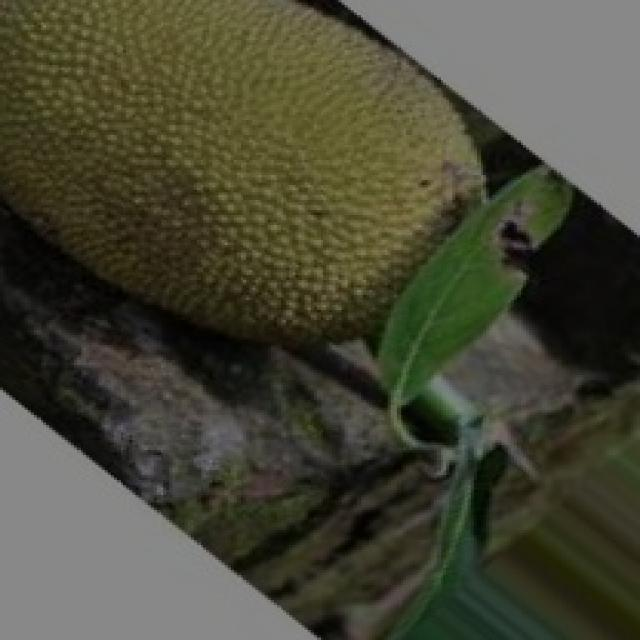Fruit: (197, 0, 594, 400), (0, 0, 391, 392)
